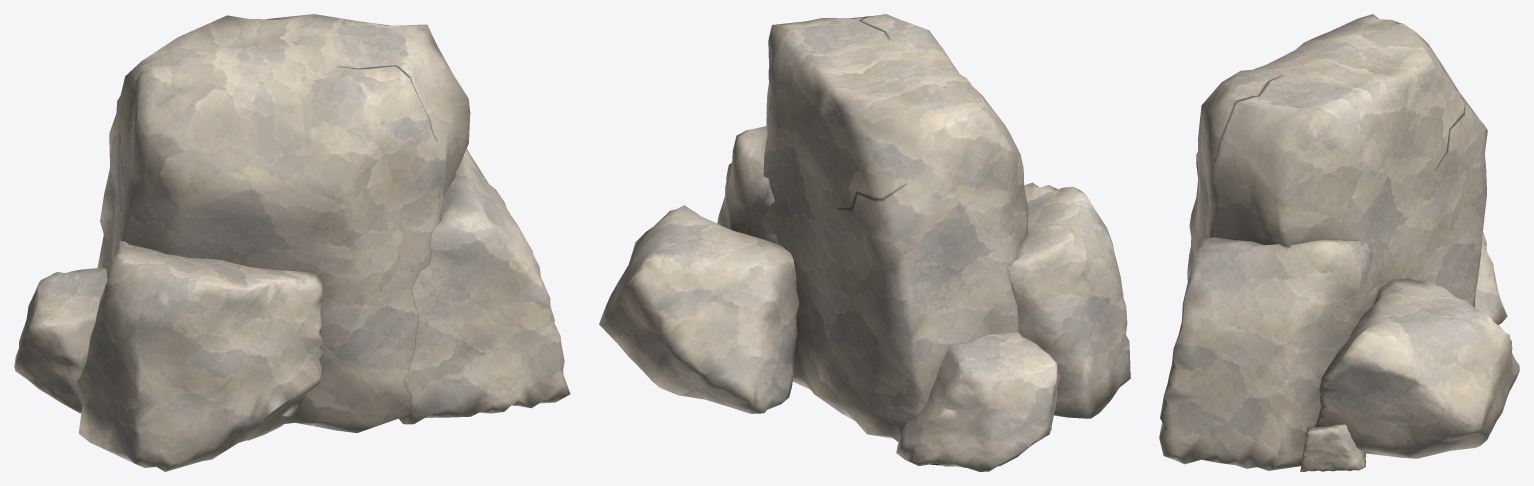
The model's file is StoneResourceSource.fbx.
3 renders of one model, left to right at view 1: azimuth 30°, elevation 25°; view 2: azimuth 150°, elevation 25°; view 3: azimuth 270°, elevation 25°, orthographic. The views are drawn at different scales.
Parts seen in each view (by area): view 1: StoneSource; view 2: StoneSource; view 3: StoneSource.
Boxes of the visible parts, x1=… form: StoneSource: x1=14, y1=14, x2=570, y2=471; StoneSource: x1=599, y1=14, x2=1130, y2=471; StoneSource: x1=1159, y1=14, x2=1519, y2=471.
Bounding box in the file's own units: 1.44 × 1.02 × 1.05.
1 material, 1 textured.
